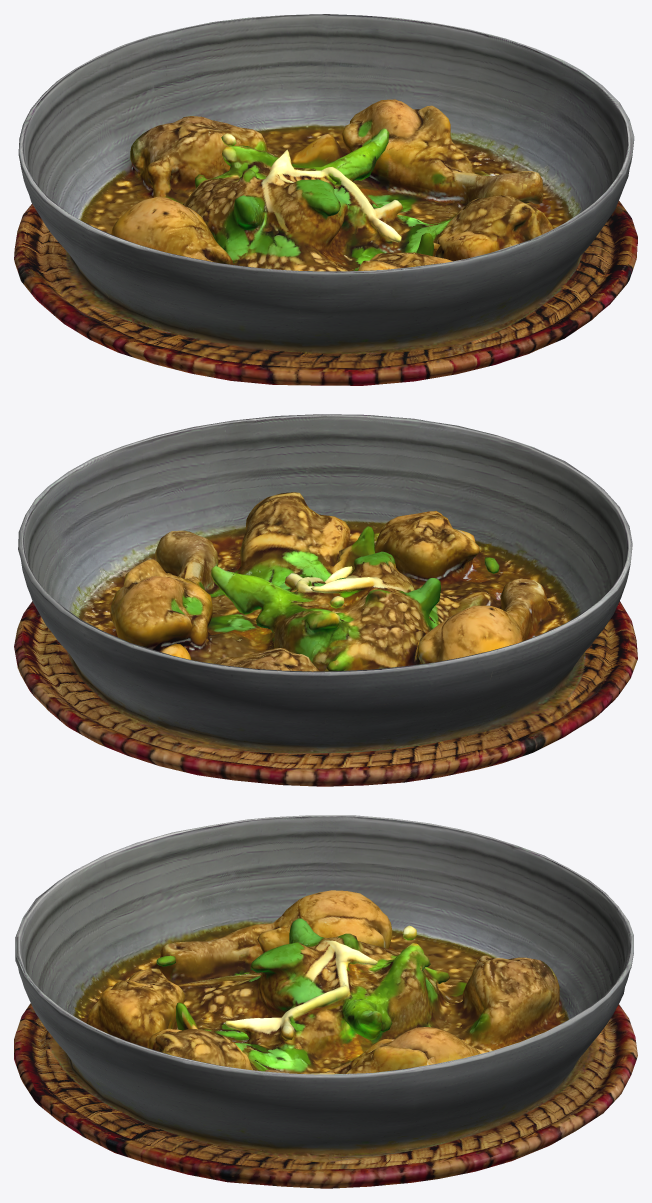
Rendered from karahi.glb.
3 renders of one model, top to bottom at view 1: azimuth 30°, elevation 25°; view 2: azimuth 150°, elevation 25°; view 3: azimuth 270°, elevation 25°, orthographic.
Size of the model in its own units: 1.91 by 0.4618 by 1.9.
Materials: 1 (1 with a texture image).
